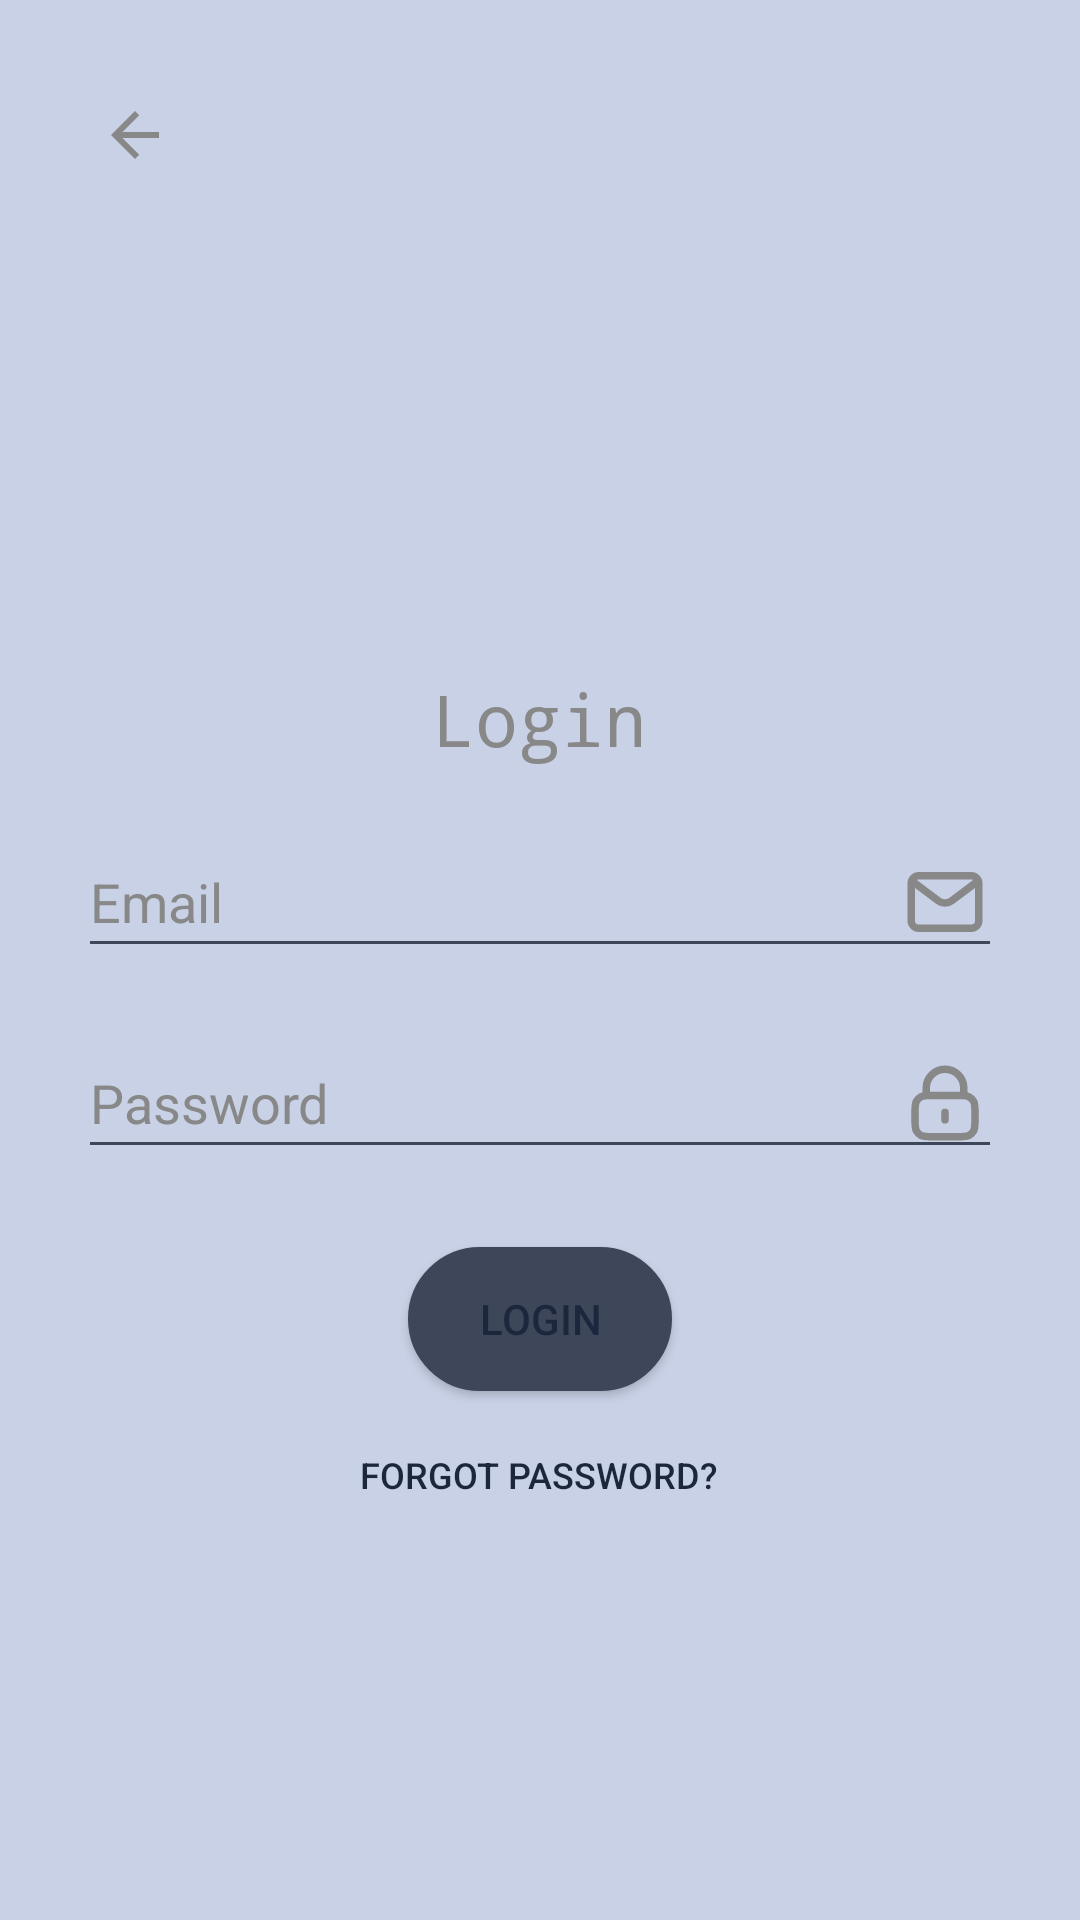

Icons on this 1080px x 1920px Android screen, each with the point to tap as (x=x, y=y):
Back: (x=135, y=135)
